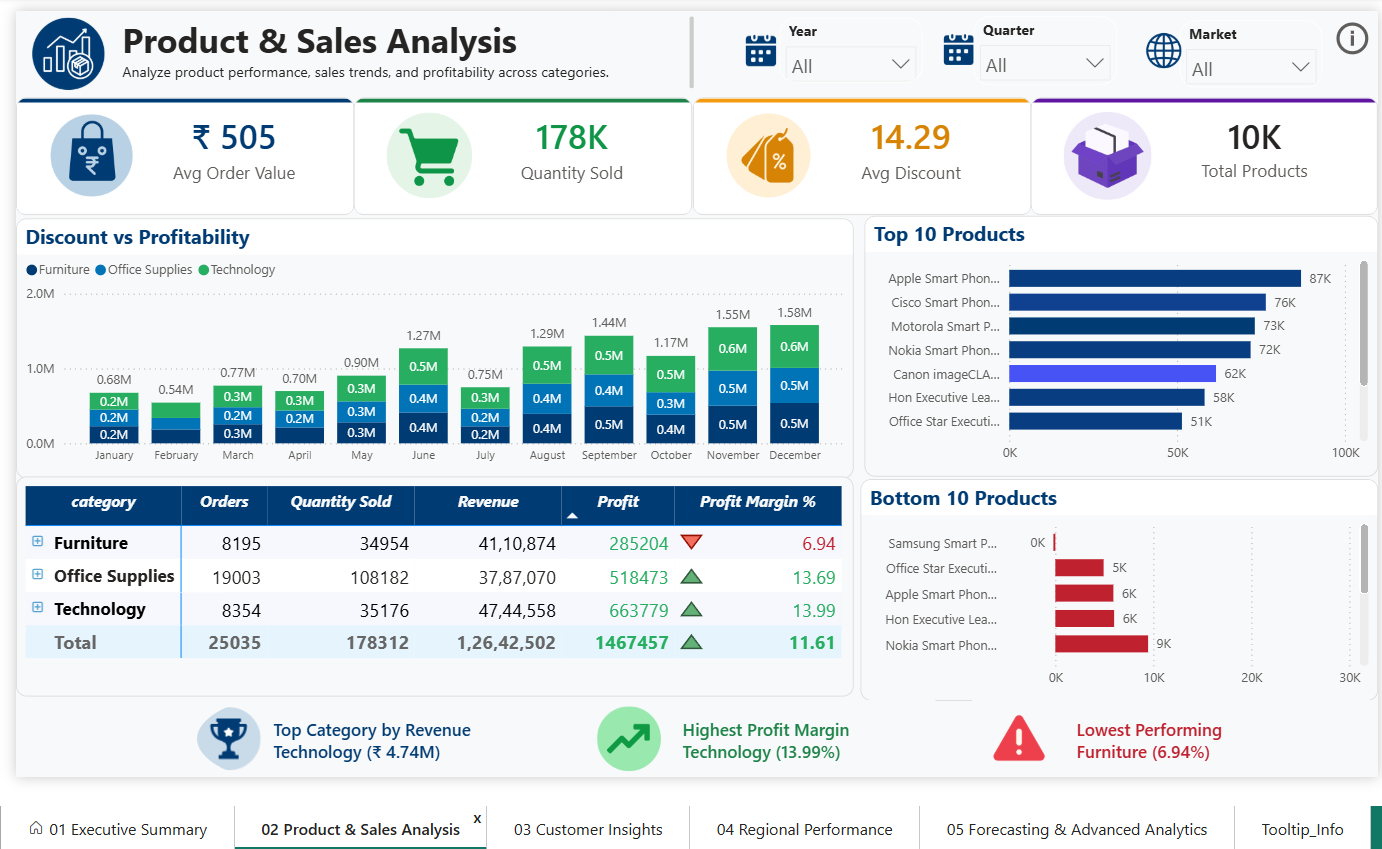

This screenshot's page, from the dashboard's own definition file:
{"tool":"powerbi","page":{"name":"02 Product & Sales Analysis","canvas":[1280,720],"ordinal":1},"visuals":[{"type":"textbox","box":[90.7,0,471.9,80.2],"z":0},{"type":"cardVisual","fields":{"Data":["_KeyMeasures.Avg Order Value"]},"box":[0,81.5,318.1,110.4],"z":1000},{"type":"cardVisual","fields":{"Data":["_KeyMeasures.Quantity Sold"]},"box":[318.1,81.5,318.1,110.4],"z":2000},{"type":"cardVisual","fields":{"Data":["_KeyMeasures.Avg Discount"]},"box":[636.2,81.5,318.1,110.4],"z":3000},{"type":"cardVisual","fields":{"Data":["_KeyMeasures.Total Products"]},"box":[954.4,81.5,326,110.4],"z":4000},{"type":"clusteredBarChart","title":"Bottom 10 Products","fields":{"Category":["dim_product.product_name"],"Y":["_KeyMeasures.Profit"]},"box":[794,439.6,486.4,208.4],"z":5000},{"type":"actionButton","box":[1233,0,47.3,51.3],"z":6000},{"type":"cardVisual","fields":{"Data":["_KeyMeasures.Blank"]},"box":[1232.9,0,47.9,51.4],"z":7000},{"type":"columnChart","title":"Discount vs Profitability","fields":{"Category":["dim_date.month_name"],"Series":["dim_product.category"],"Y":["_KeyMeasures.Revenue"]},"box":[0,194.7,787.6,244.5],"z":8000},{"type":"clusteredBarChart","title":"Top 10 Products","fields":{"Category":["dim_product.product_name"],"Y":["_KeyMeasures.Revenue"]},"box":[797.9,191.9,482.4,244.7],"z":9000},{"type":"pivotTable","fields":{"Rows":["dim_product.category","dim_product.sub_category"],"Values":["_KeyMeasures.Orders","_KeyMeasures.Quantity Sold","_KeyMeasures.Revenue","_KeyMeasures.Profit","_KeyMeasures.Profit Margin %"]},"box":[0,437.7,787.4,206.7],"z":10000},{"type":"image","box":[0,0,98.6,80.2],"z":11000},{"type":"cardVisual","title":"asd","fields":{"Data":["_KeyMeasures.Top Category Insight"]},"box":[159.6,647,317.7,73.2],"z":12000},{"type":"cardVisual","title":"asd","fields":{"Data":["_KeyMeasures.Highest Margin Insight"]},"box":[535.8,647,327.9,73.2],"z":13000},{"type":"cardVisual","title":"asd","fields":{"Data":["_KeyMeasures.Lowest Category Insight"]},"box":[898.8,647,380.6,73.2],"z":14000},{"type":"slicer","fields":{"Values":["dim_date.year"]},"box":[717.5,6.6,134.4,60.6],"z":15000},{"type":"slicer","fields":{"Values":["dim_date.quarter"]},"box":[900,4.7,134.4,64.4],"z":16000},{"type":"slicer","fields":{"Values":["dim_region.market"]},"box":[1093.3,8.6,134.1,63.1],"z":17000},{"type":"image","box":[677.8,8.9,45,52.2],"z":18000},{"type":"image","box":[863.3,7.8,44.4,53.9],"z":19000},{"type":"image","box":[1060.6,16.1,37.8,41.7],"z":20000},{"type":"shape","box":[605.6,4.4,60,67.8],"z":21000}]}

Visuals, with their boxes on the page's 1280x720 design canvas (x1, y1, x2, y2). These are canvas units, not pixel positions in the 1382x849 screenshot, which may show the page scaled, cropped or inside an application window:
textbox: Rect(91, 0, 563, 80)
cardVisual - _KeyMeasures.Avg Order Value: Rect(0, 82, 318, 192)
cardVisual - _KeyMeasures.Quantity Sold: Rect(318, 82, 636, 192)
cardVisual - _KeyMeasures.Avg Discount: Rect(636, 82, 954, 192)
cardVisual - _KeyMeasures.Total Products: Rect(954, 82, 1280, 192)
"Bottom 10 Products" clusteredBarChart: Rect(794, 440, 1280, 648)
actionButton: Rect(1233, 0, 1280, 51)
cardVisual - _KeyMeasures.Blank: Rect(1233, 0, 1281, 51)
"Discount vs Profitability" columnChart: Rect(0, 195, 788, 439)
"Top 10 Products" clusteredBarChart: Rect(798, 192, 1280, 437)
pivotTable - dim_product.category x dim_product.sub_category: Rect(0, 438, 787, 644)
image: Rect(0, 0, 99, 80)
"asd" cardVisual: Rect(160, 647, 477, 720)
"asd" cardVisual: Rect(536, 647, 864, 720)
"asd" cardVisual: Rect(899, 647, 1279, 720)
slicer - dim_date.year: Rect(718, 7, 852, 67)
slicer - dim_date.quarter: Rect(900, 5, 1034, 69)
slicer - dim_region.market: Rect(1093, 9, 1227, 72)
image: Rect(678, 9, 723, 61)
image: Rect(863, 8, 908, 62)
image: Rect(1061, 16, 1098, 58)
shape: Rect(606, 4, 666, 72)
